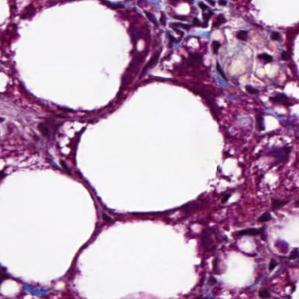inflammation: (244, 78, 297, 134), (160, 0, 221, 41)
